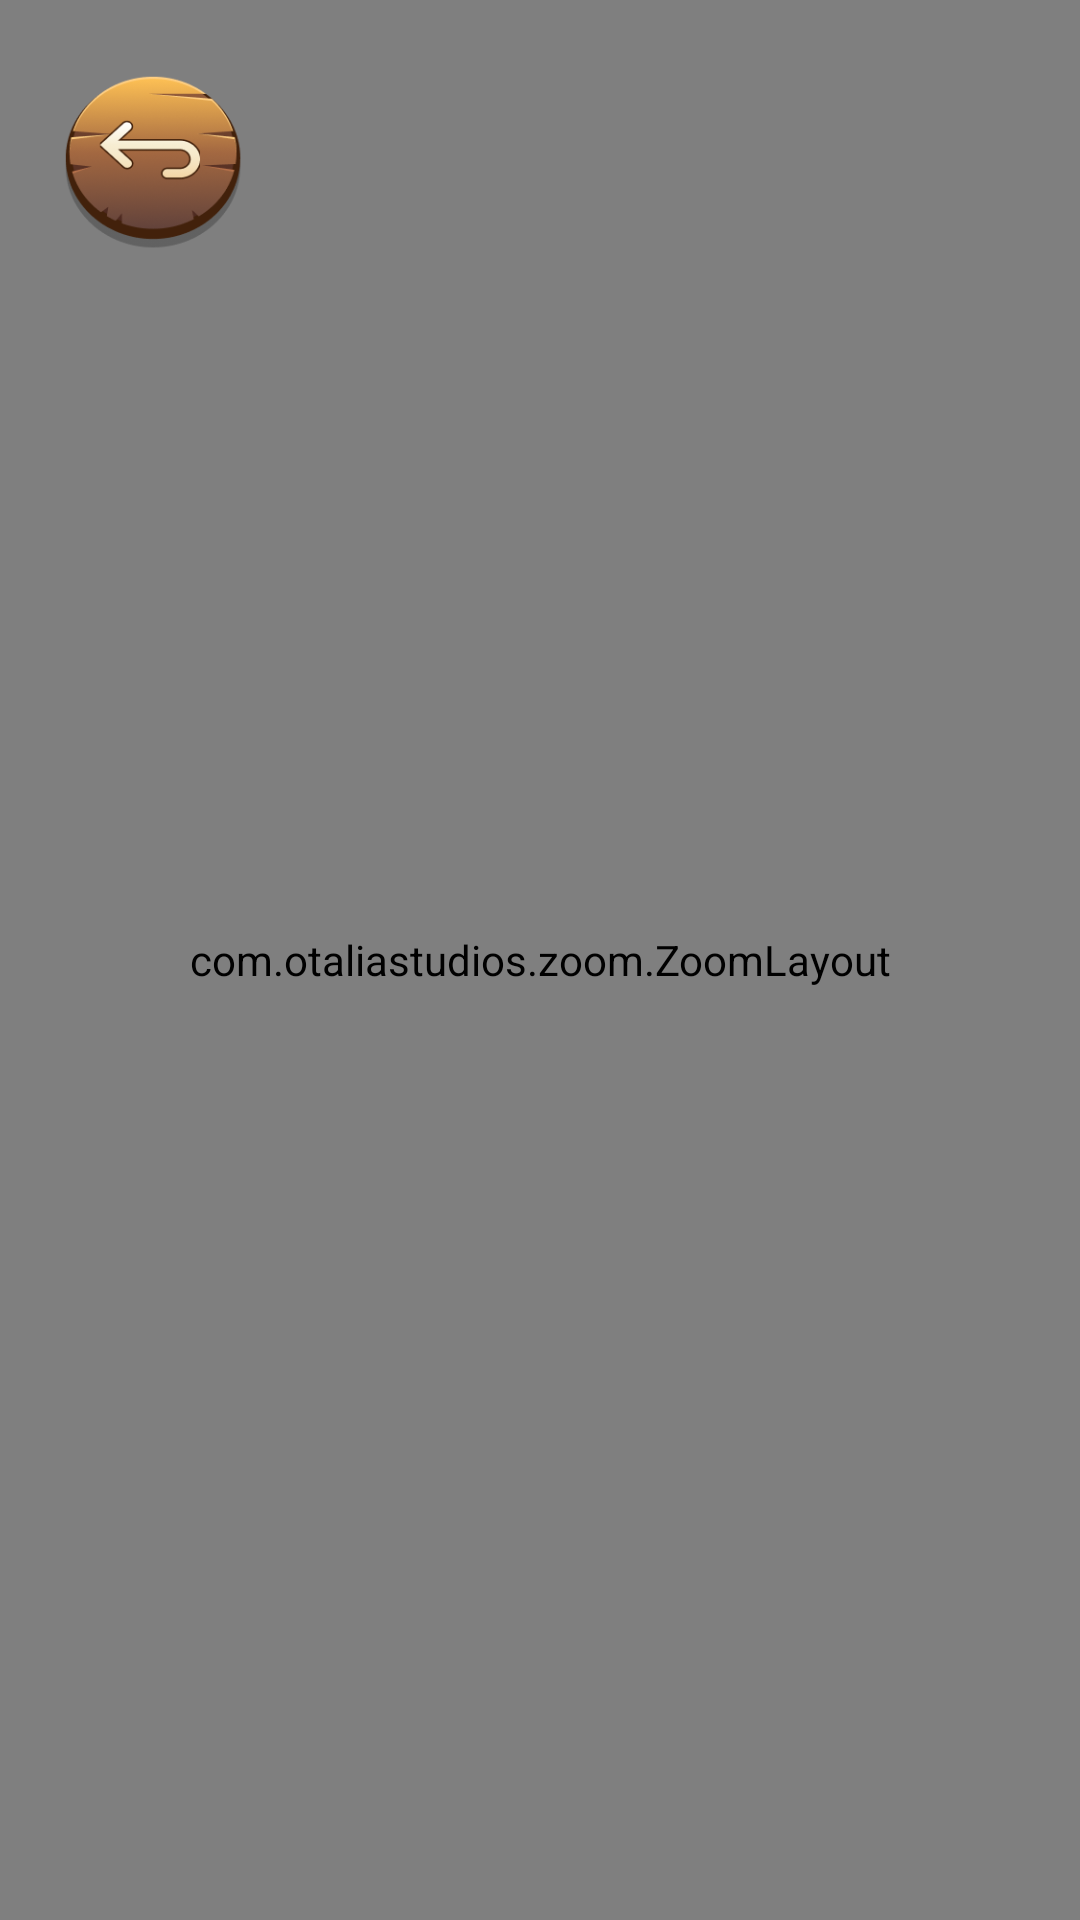

Icon bounding boxes for this 1080px x 1920px phone screenshot, format bbox(x1, y1, x2, y2):
back: bbox(66, 76, 241, 247)
